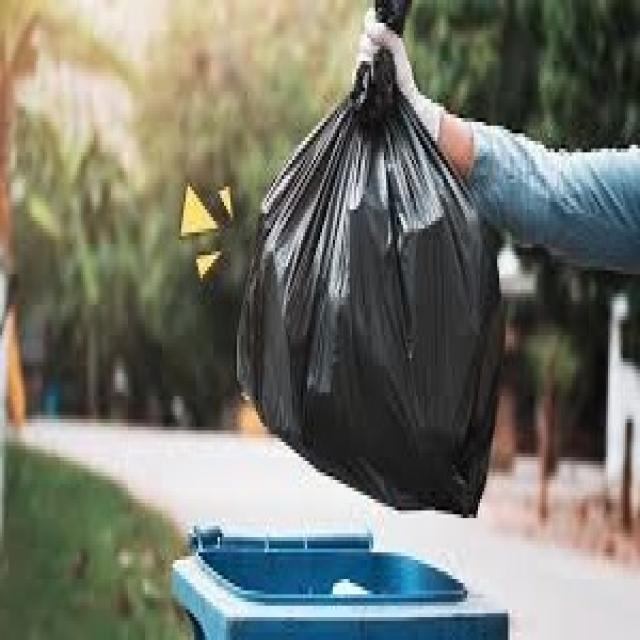Vinyl: (237, 0, 506, 522)
